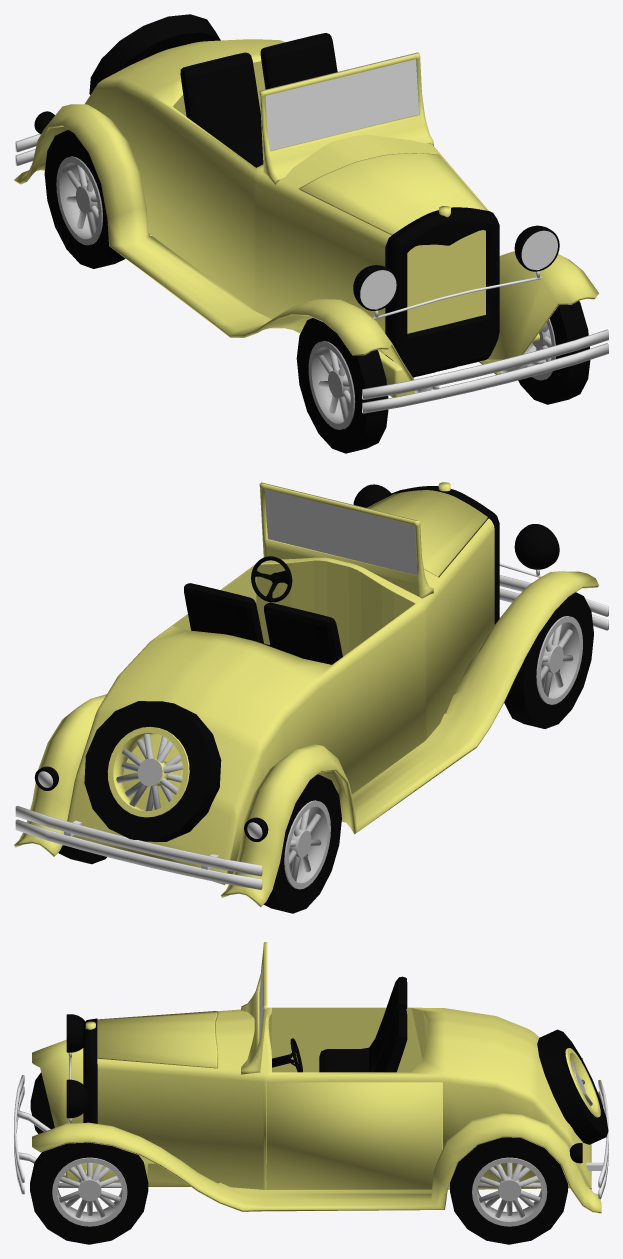
The model's file is clascar.fbx.
3 views of the same model, one above another, from view 1: azimuth 30°, elevation 25°; view 2: azimuth 150°, elevation 25°; view 3: azimuth 270°, elevation 25° (orthographic). The views are drawn at different scales.
Visible parts, largest first — view 1: Body, Body.001, Cube, Circle.002, Circle.004, Circle.003, Circle.001, TYRE.003, TYRE.001, Cube.001, TYRE.005; view 2: Body, Circle.004, Body.001, Circle.002, Circle.003, Cube, Cube.001, TYRE.003, TYRE.001, BezierCircle; view 3: Body, Body.002, Body.001, Circle, Circle.001, TYRE.002, TYRE.005, Circle.004, Cube, Cube.001, Circle.002, BezierCircle.
Part boxes in pixels (left/top/right/bottom): Body: left=14, top=39, right=608, bottom=413; Body.001: left=299, top=153, right=486, bottom=235; Cube: left=180, top=52, right=263, bottom=167; Circle.002: left=296, top=318, right=388, bottom=453; Circle.004: left=89, top=14, right=220, bottom=94; Circle.003: left=44, top=130, right=125, bottom=268; Circle.001: left=518, top=301, right=590, bottom=404; TYRE.003: left=56, top=156, right=102, bottom=245; TYRE.001: left=308, top=341, right=355, bottom=429; Cube.001: left=260, top=33, right=337, bottom=89; TYRE.005: left=524, top=318, right=555, bottom=380; Body: left=14, top=482, right=608, bottom=907; Circle.004: left=84, top=701, right=221, bottom=841; Body.001: left=367, top=490, right=487, bottom=577; Circle.002: left=504, top=592, right=593, bottom=728; Circle.003: left=263, top=774, right=341, bottom=913; Cube: left=264, top=602, right=342, bottom=664; Cube.001: left=184, top=583, right=270, bottom=646; TYRE.003: left=284, top=800, right=330, bottom=889; TYRE.001: left=536, top=616, right=582, bottom=704; BezierCircle: left=251, top=556, right=292, bottom=602; Body: left=14, top=942, right=608, bottom=1213; Body.002: left=266, top=1082, right=442, bottom=1189; Body.001: left=97, top=1011, right=217, bottom=1068; Circle: left=450, top=1137, right=567, bottom=1244; Circle.001: left=30, top=1142, right=148, bottom=1244; TYRE.002: left=472, top=1157, right=547, bottom=1226; TYRE.005: left=52, top=1157, right=127, bottom=1226; Circle.004: left=537, top=1029, right=608, bottom=1144; Cube: left=319, top=976, right=407, bottom=1072; Cube.001: left=374, top=1009, right=407, bottom=1072; Circle.002: left=30, top=1072, right=54, bottom=1133; BezierCircle: left=272, top=1038, right=302, bottom=1072.
Size of the model in its own units: 241 by 252 by 602.
